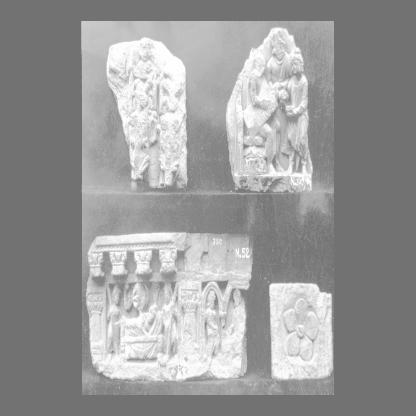buddha-sleeping: (124, 304, 162, 336)
buddha-standing: (283, 47, 312, 174)
